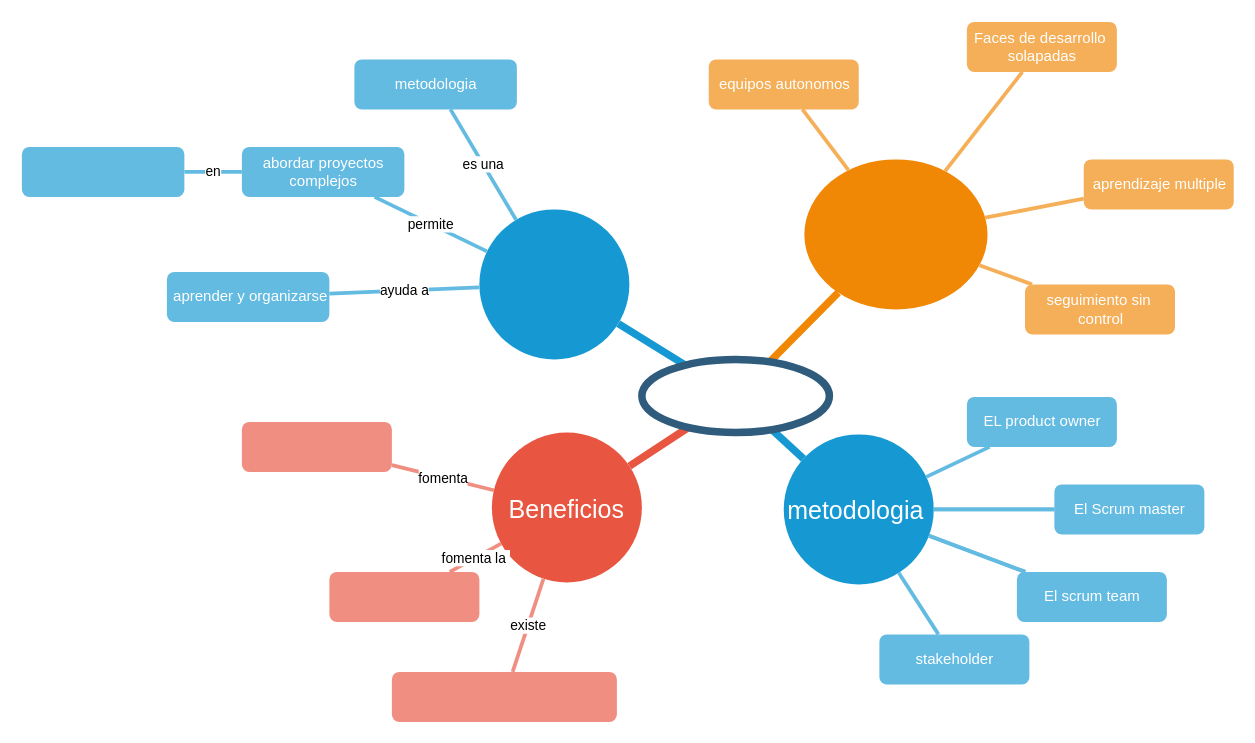
This 1255x743 diagram has some shape labels left out. The box of each missing label's shape, as (x1, y1, x2, y2) in pixels:
Caracteristicas: (804, 159, 987, 309)
Concepto: (479, 209, 629, 359)
el trabajo en quipo: (241, 421, 391, 471)
entornos dinamicos y cambiantes: (21, 146, 184, 196)
mayor control y transaprencia: (391, 671, 616, 721)
responsabilidad: (329, 571, 479, 621)
Scrum: (638, 355, 832, 436)
